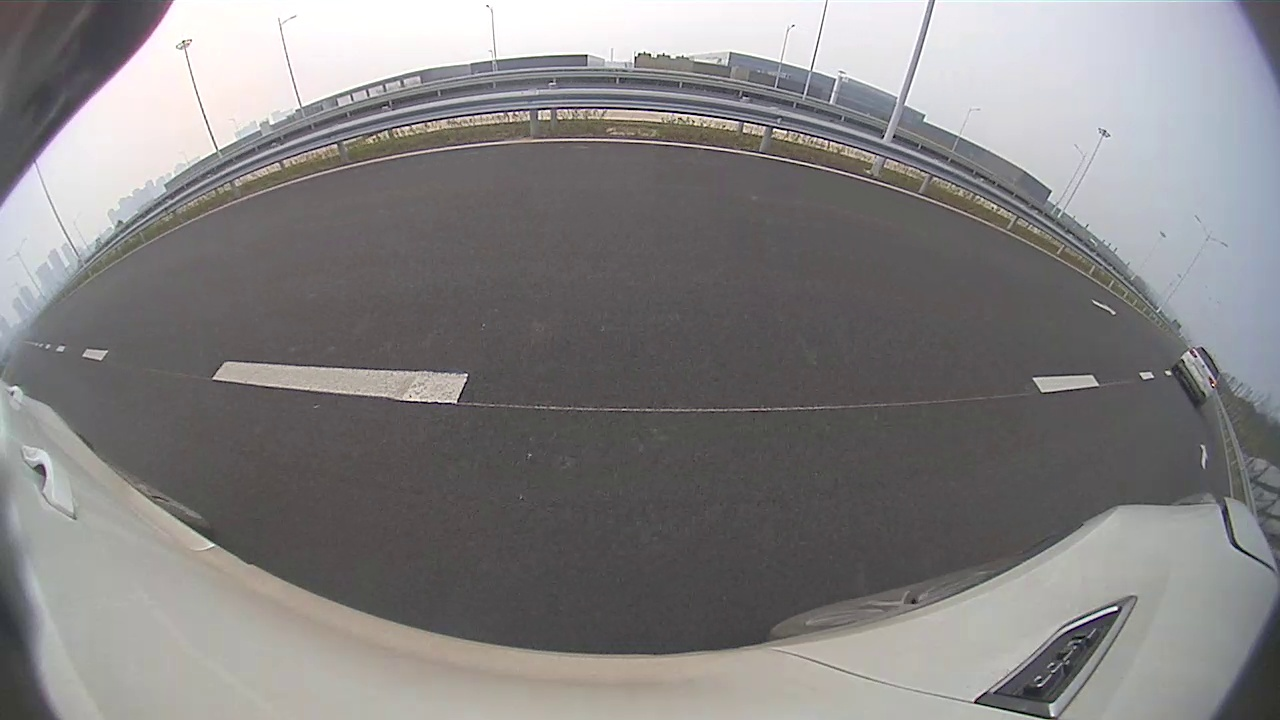car: (1172, 346, 1220, 408)
